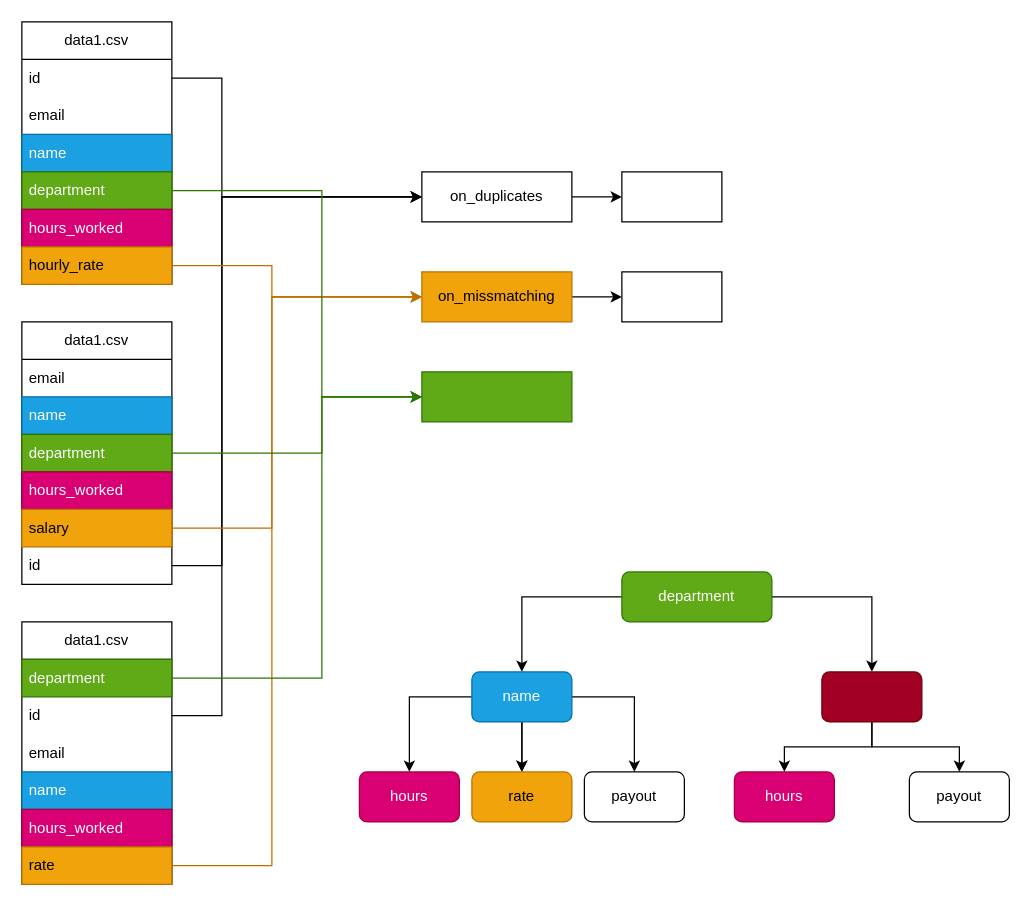
The diagram is 1031 pixels wide and 906 high, and some of its shapes have lost their labels. Here are the shapes that lost their labels. From the top down, the centre of each, then its label:
the point at 671,196: skip
the point at 671,296: error
the point at 496,396: group_by
the point at 871,696: __report__
